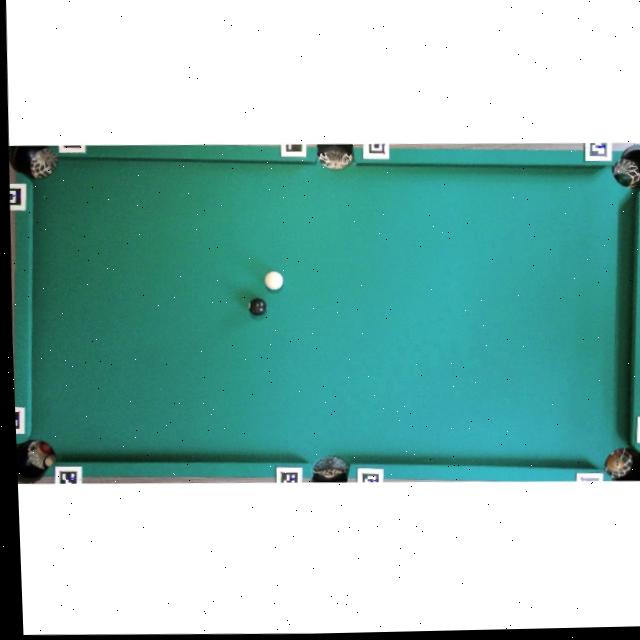cue ball: (263, 270, 284, 290)
other: (247, 296, 267, 316)
